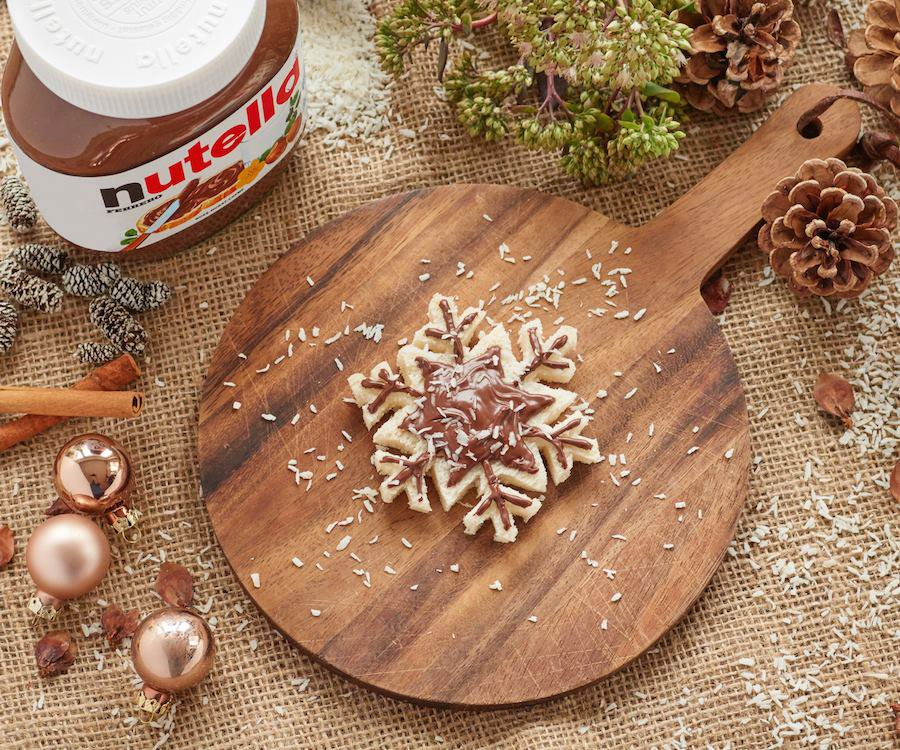nutella: (1, 1, 306, 261)
